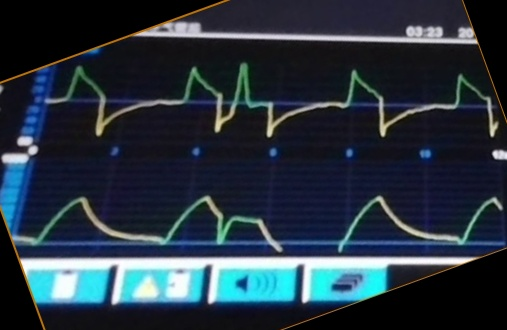Double_Triggering Flow: (65, 61, 484, 139)
Double_Triggering Volume: (25, 190, 497, 250)
